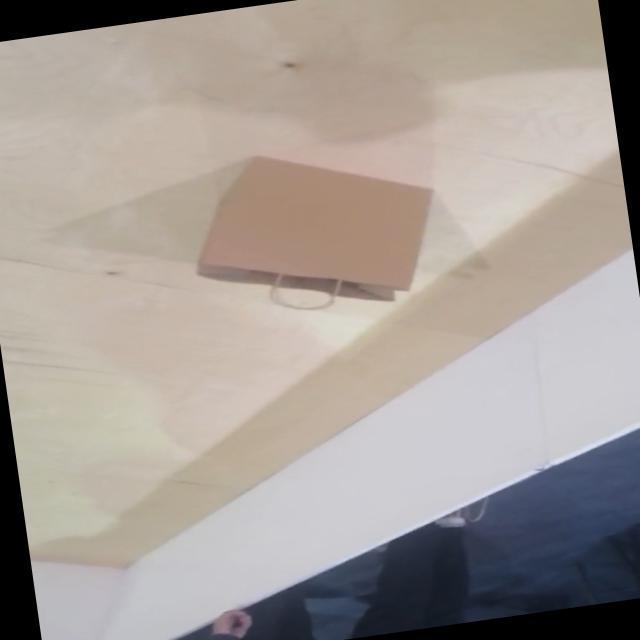Paper_Bag: (180, 132, 450, 328)
